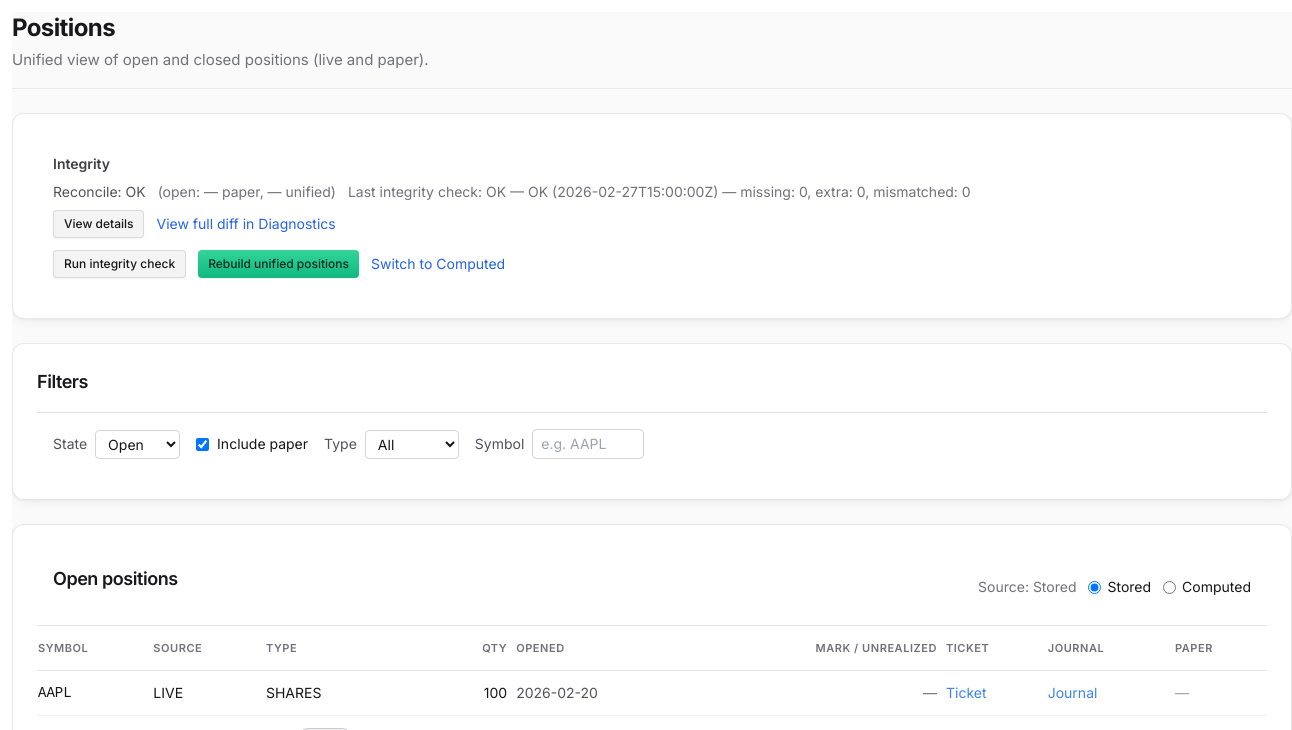
Test: PositionsPage › R29.4: Last integrity check summary and View details expand sample items
The width and height of the screenshot is (1292, 730).
Expected: the text with test id "positions-integrity-last-check" shows "Last integrity check", [348,183,486,200]
Click the button with test id "positions-integrity-view-details-btn".
click(99, 224)  # box [53,210,144,238]
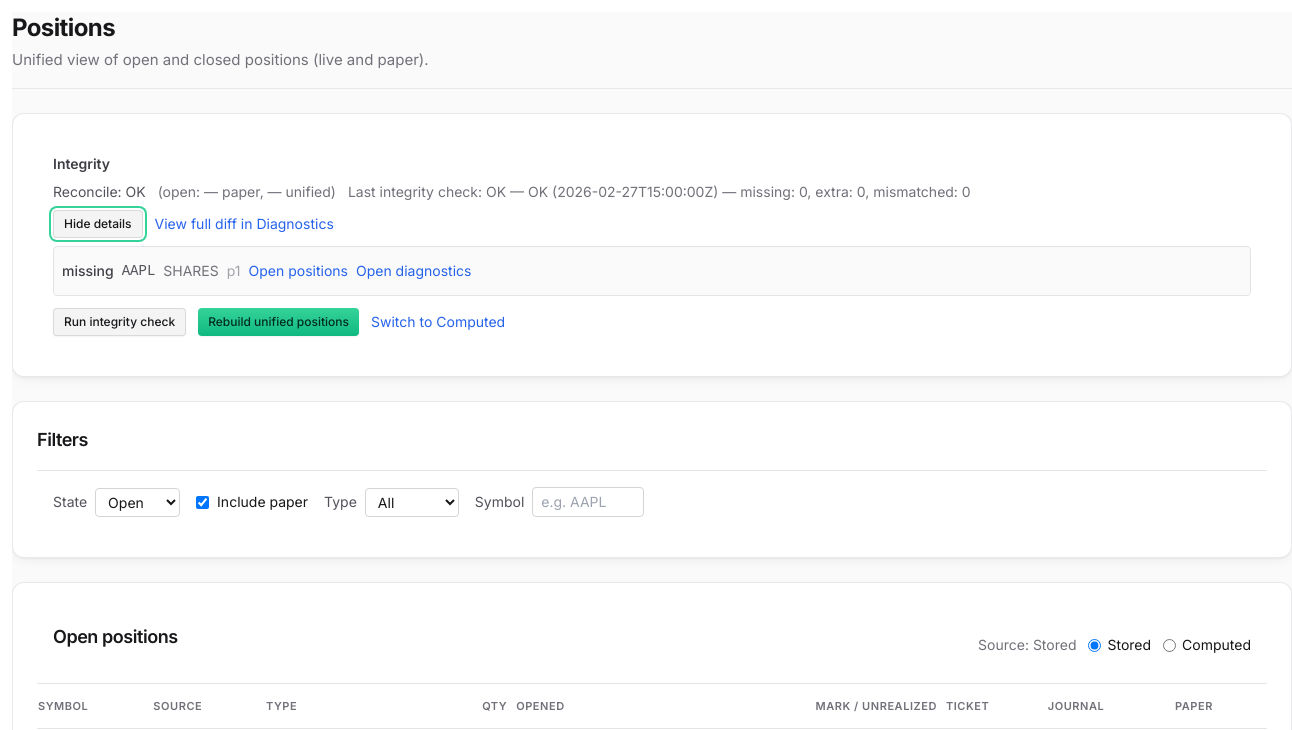
Now the list with test id "positions-integrity-details-list" is shown, box [53,246,1251,296]
Now the text "missing" is shown, box [62,261,114,281]
Now the text "AAPL" is shown, box [122,261,155,281]
